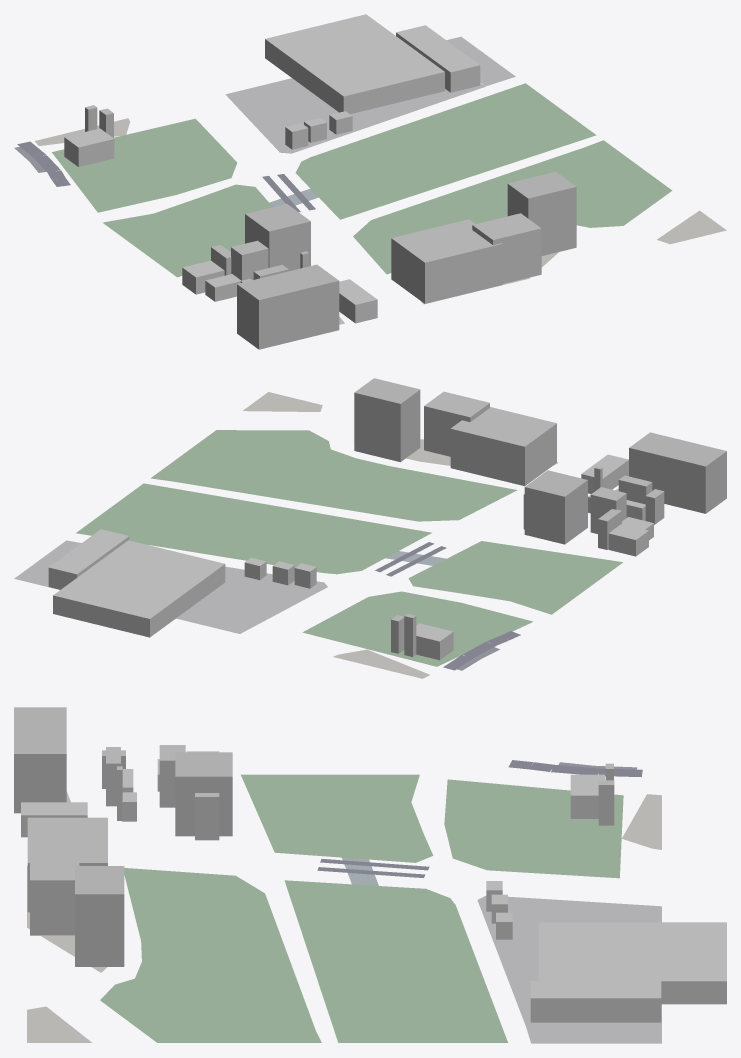
File: 118_114_mid.glb
3 views of the same model, one above another, from view 1: azimuth 30°, elevation 25°; view 2: azimuth 150°, elevation 25°; view 3: azimuth 270°, elevation 25° (orthographic). The views are drawn at different scales.
Bounding box in the file's own units: 514 × 64.24 × 561.
